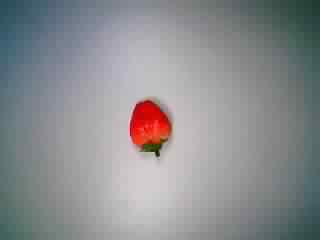strawberry: (117, 98, 179, 162)
